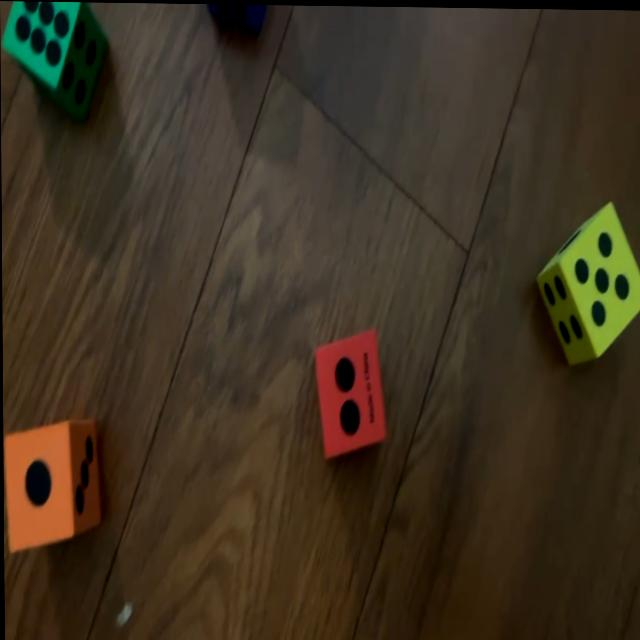blue_block: (209, 2, 261, 23)
red_block: (314, 329, 385, 455)
